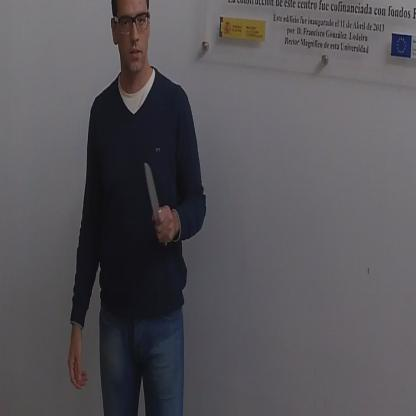knife: (141, 155, 168, 250)
